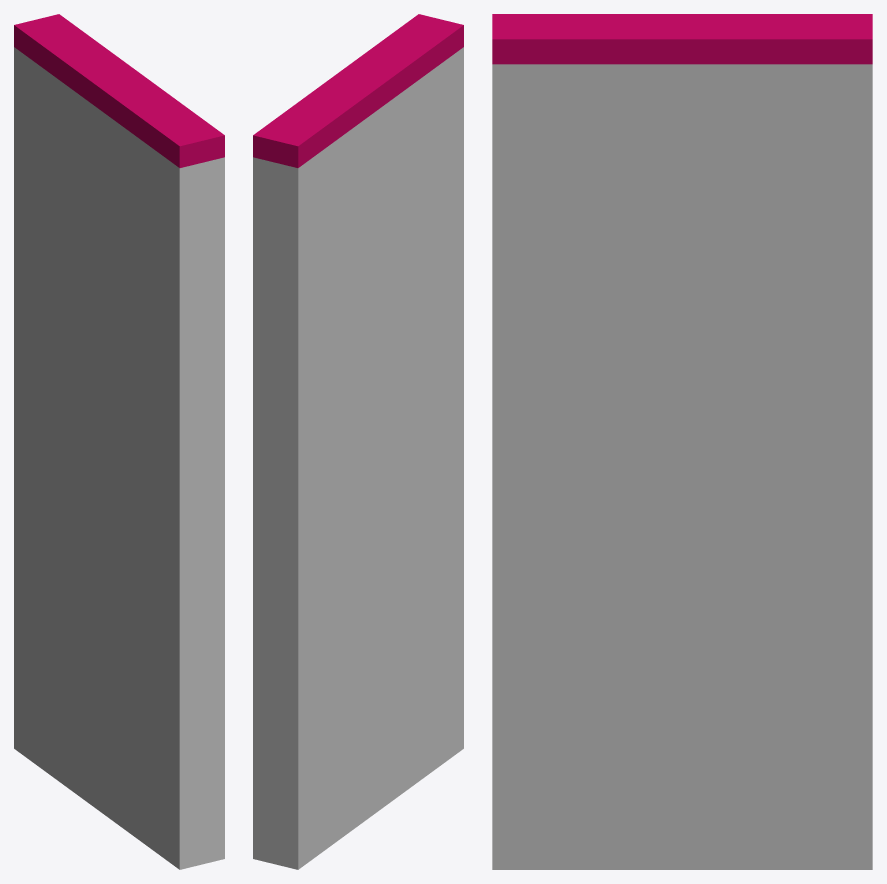
Rendered from door empty.fbx.
3 views of the same model, side by side, from view 1: azimuth 30°, elevation 25°; view 2: azimuth 150°, elevation 25°; view 3: azimuth 270°, elevation 25° (orthographic). The views are drawn at different scales.
Visible parts, largest first — view 1: Cube; view 2: Cube; view 3: Cube.
Part boxes in pixels (<box>): Cube: <box>14,14,224,869</box>; Cube: <box>253,14,463,869</box>; Cube: <box>492,14,872,869</box>.
Size of the model in its own units: 31.46 by 482 by 200.
